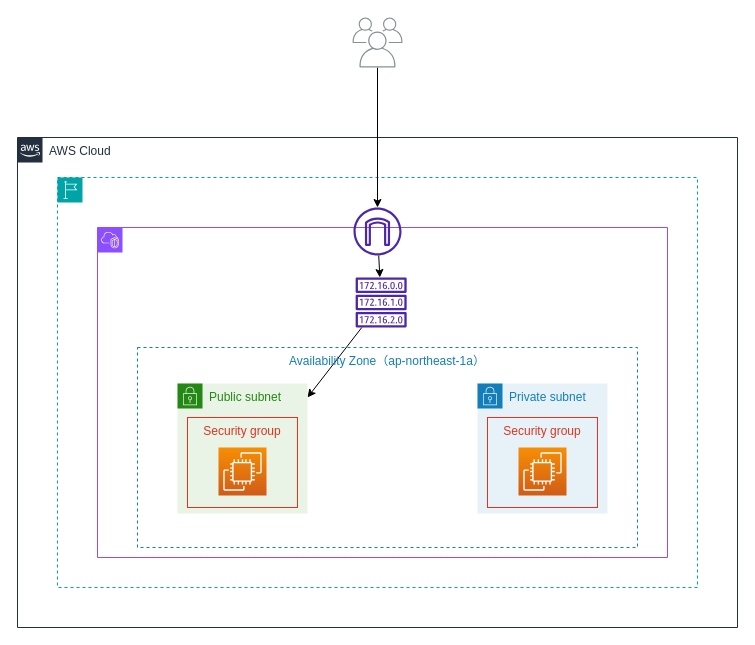
Image size: 755x645. Some labels were removed from this diagram. Here are the shapes that lost their labels. From the top down, the box of each, then its label:
(352, 17, 402, 67): users
(56, 176, 698, 588): Region
(96, 226, 668, 558): VPC
